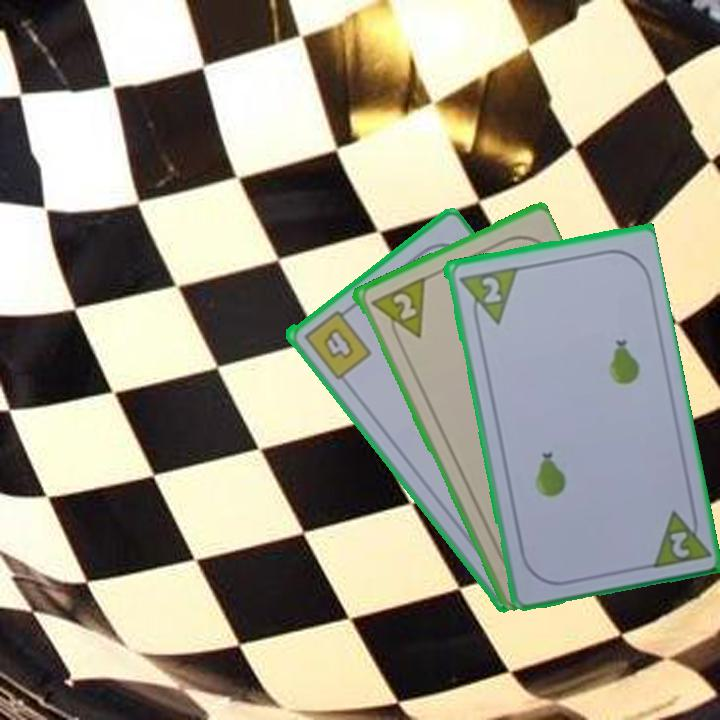2p: (646, 501, 711, 571), (388, 289, 419, 323), (477, 272, 504, 306)
4b: (299, 303, 374, 382)
